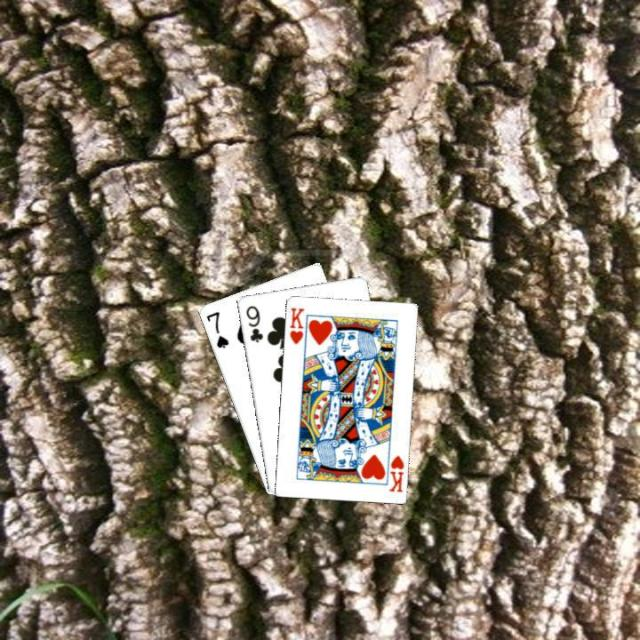7S: (202, 308, 230, 350)
9C: (242, 301, 265, 344)
KH: (285, 304, 306, 346), (385, 451, 405, 493)
